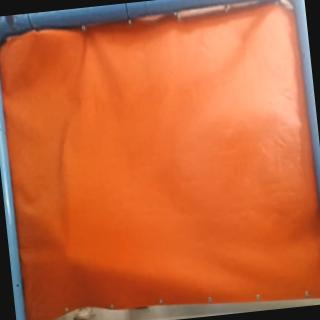Hit-hRxx: (60, 248, 78, 264)
